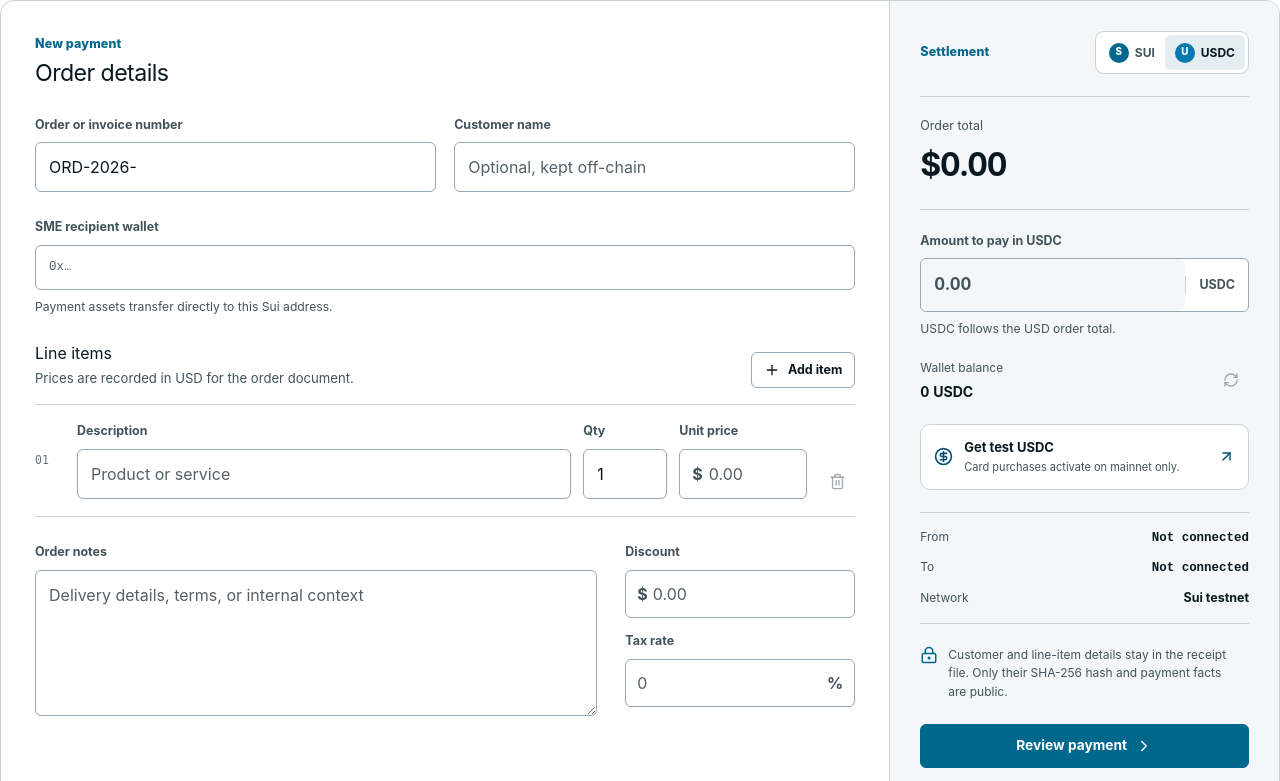
it: payment workspace actions › requires a connected wallet before review
Click the button "Review payment".
click(1085, 746)  # box 920,724 -> 1249,768
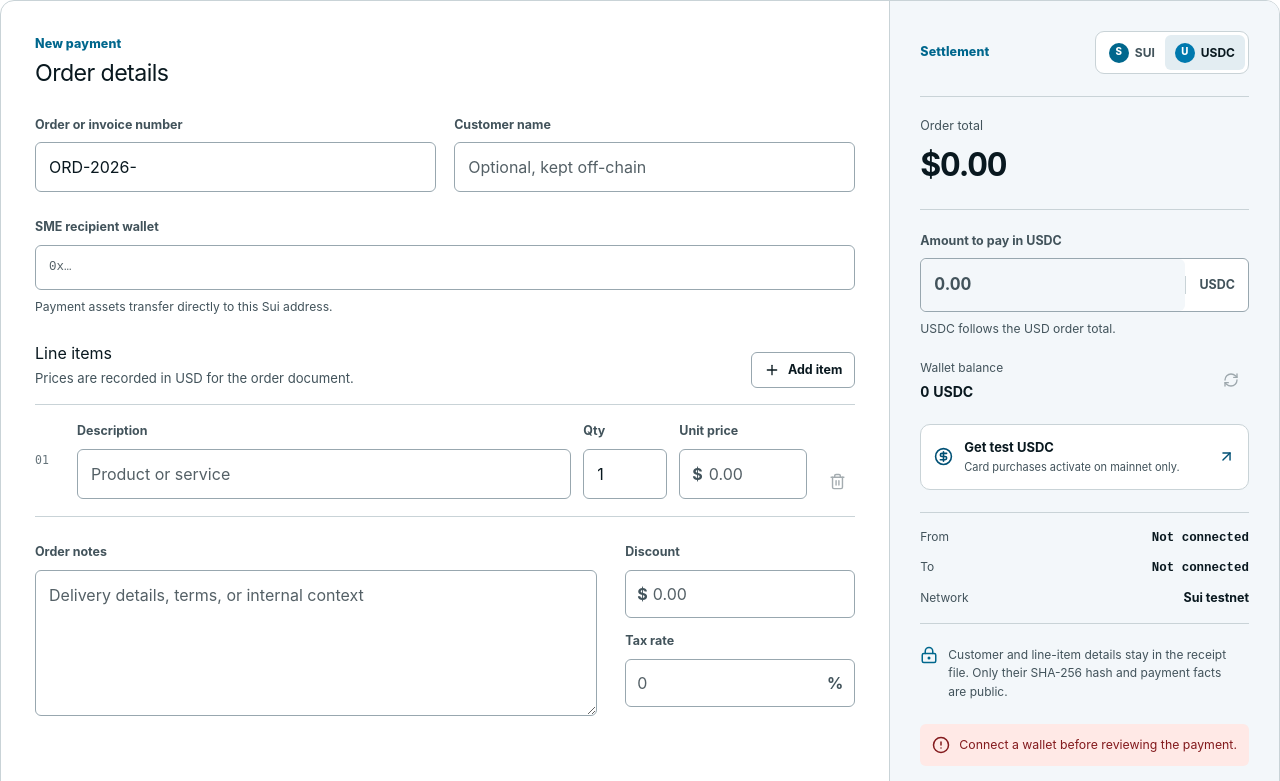
Now the message shows "Connect a wallet", box 959,737 -> 1237,752
